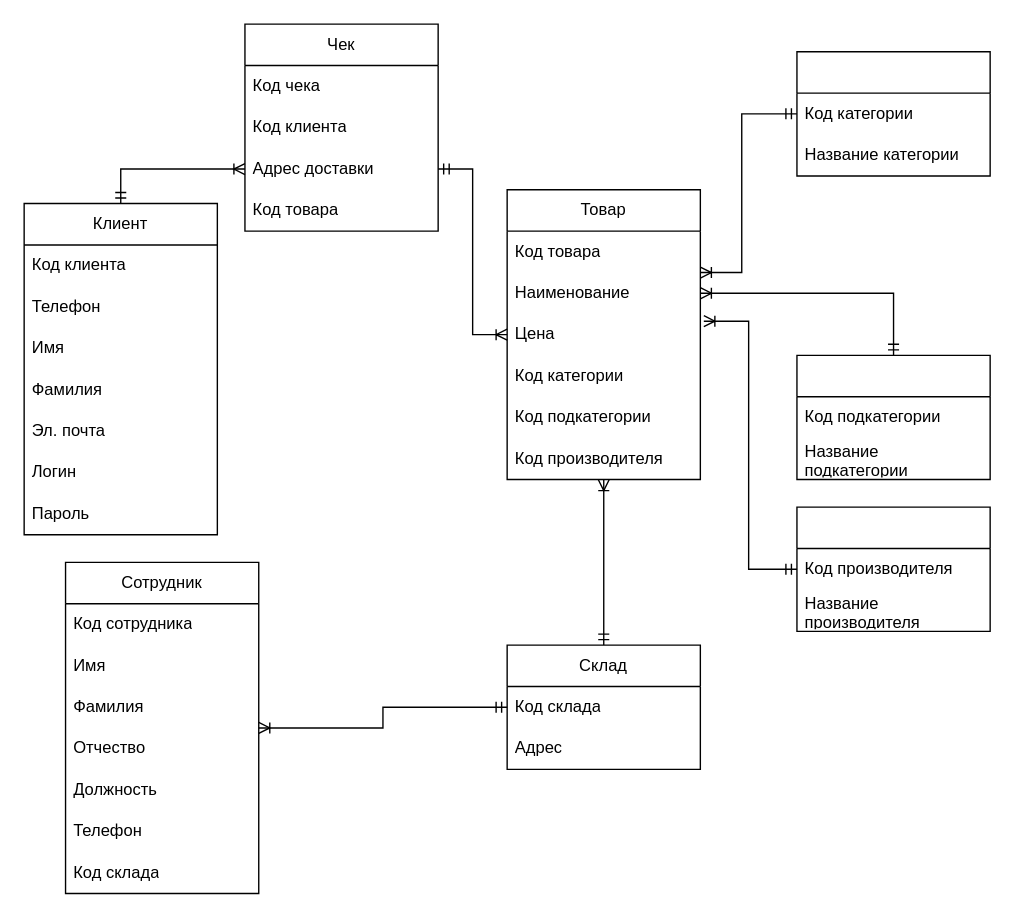
The diagram is 1014 pixels wide and 918 high, and some of its shapes have lost their labels. Each missing label, with the box of its shape:
Категория: (796, 50, 990, 176)
Подкатегория: (796, 354, 990, 480)
Производитель: (796, 506, 990, 631)
